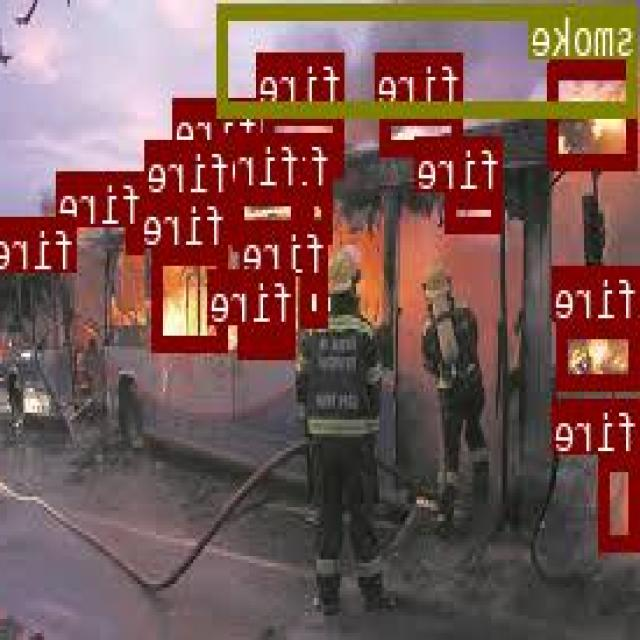fire: (550, 60, 638, 167), (156, 246, 230, 348), (266, 106, 347, 174), (559, 319, 640, 386), (235, 188, 302, 245), (383, 108, 464, 152), (603, 451, 640, 546), (158, 195, 234, 238), (449, 192, 503, 230), (240, 322, 298, 356), (306, 187, 334, 240), (33, 216, 79, 248), (304, 274, 330, 322), (246, 152, 262, 184), (130, 225, 146, 250)
smoke: (221, 1, 640, 116)
